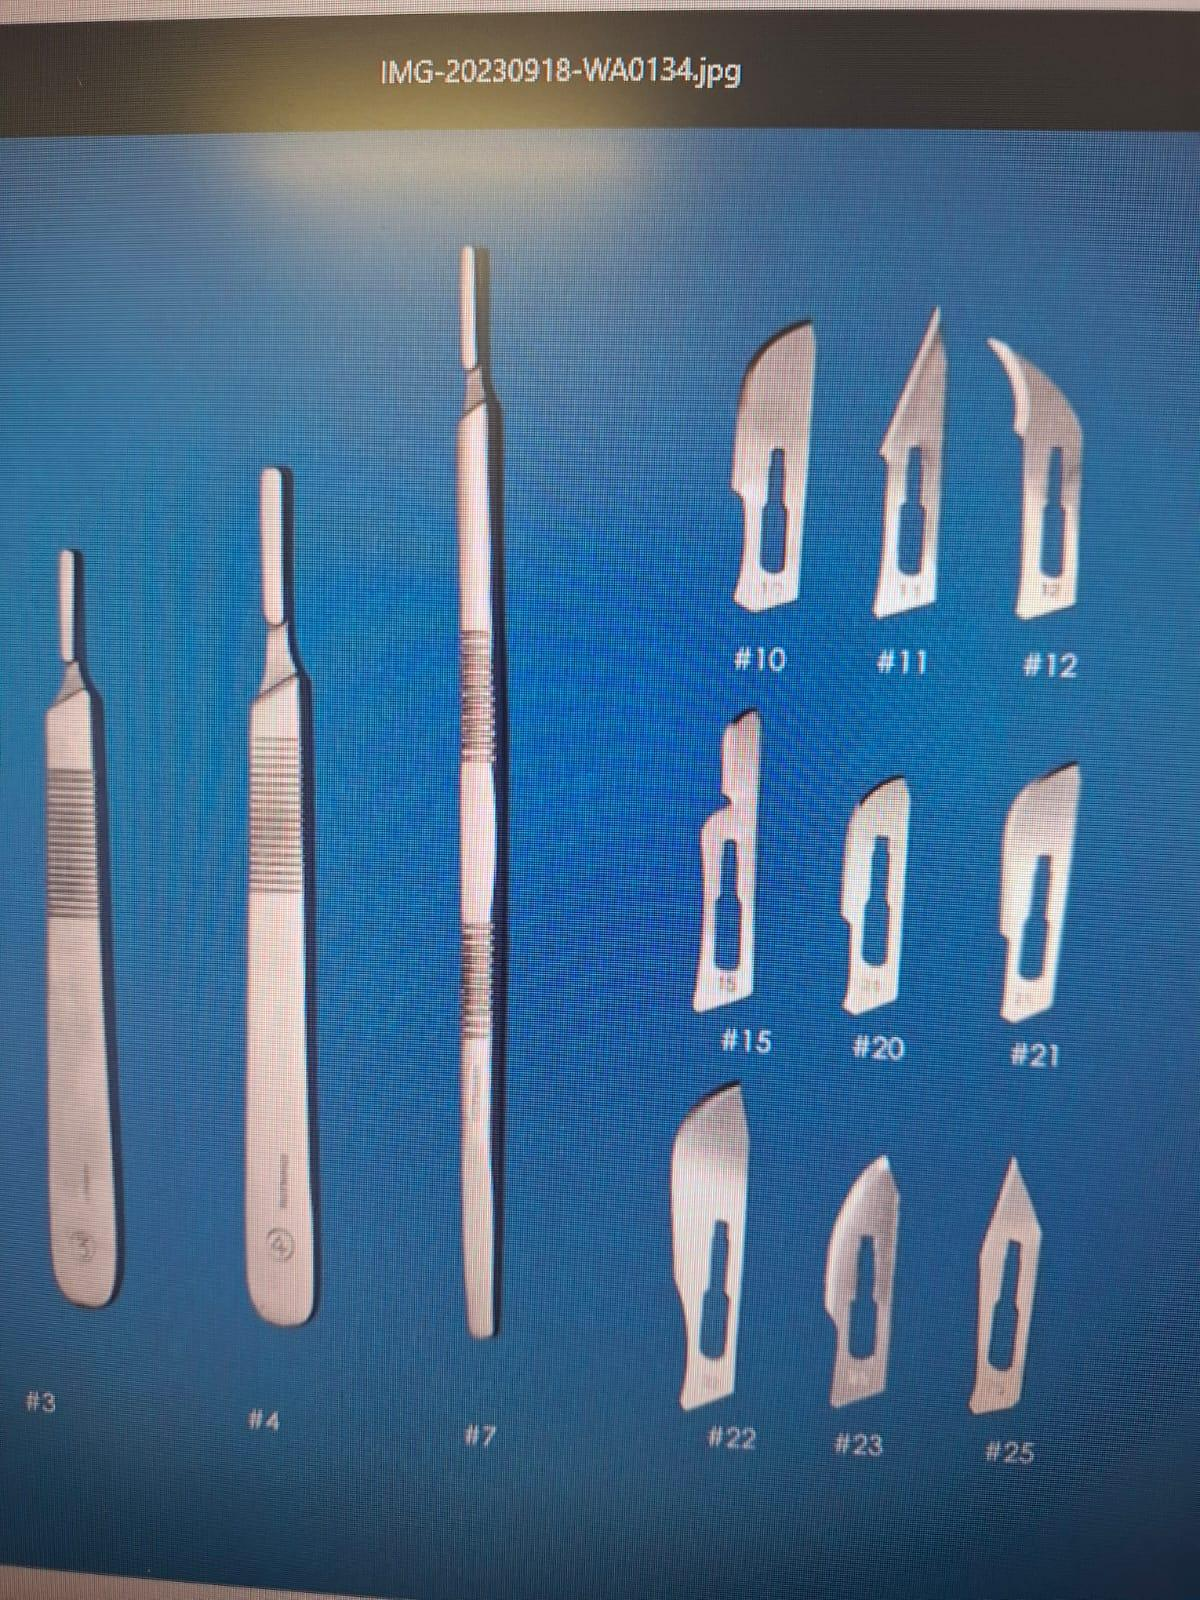Knife Blade: (643, 317, 867, 625), (628, 1072, 775, 1440), (968, 312, 1127, 645), (984, 752, 1095, 1047), (875, 297, 968, 637), (827, 742, 933, 1028), (811, 1138, 913, 1415), (963, 1145, 1058, 1420)
Knife Handle: (216, 452, 363, 1346), (18, 520, 158, 1313)
